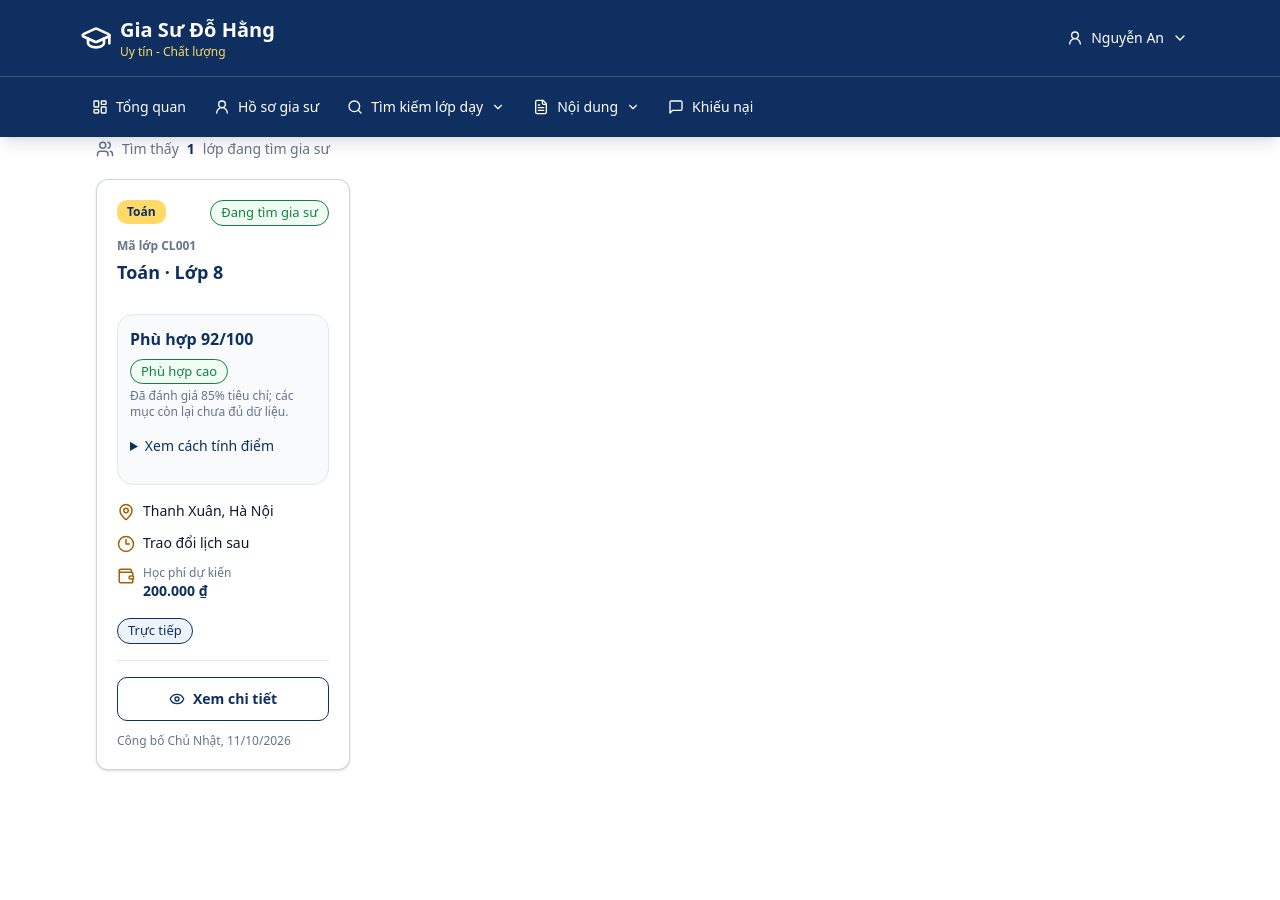
Test case: class routes › shows a scored recommendation with reasons and missing-data coverage
The width and height of the screenshot is (1280, 900).
(page scrolled)
Expected: the text "Phù hợp 92/100" is shown, [130, 326, 253, 350]
Expected: the text "Đã đánh giá 85% tiêu chí; các mục còn lại chưa đủ dữ liệu." is shown, [130, 388, 316, 420]
Click the heading "Xem cách tính điểm" at (209, 446), box [145, 436, 274, 455]
(page scrolled)
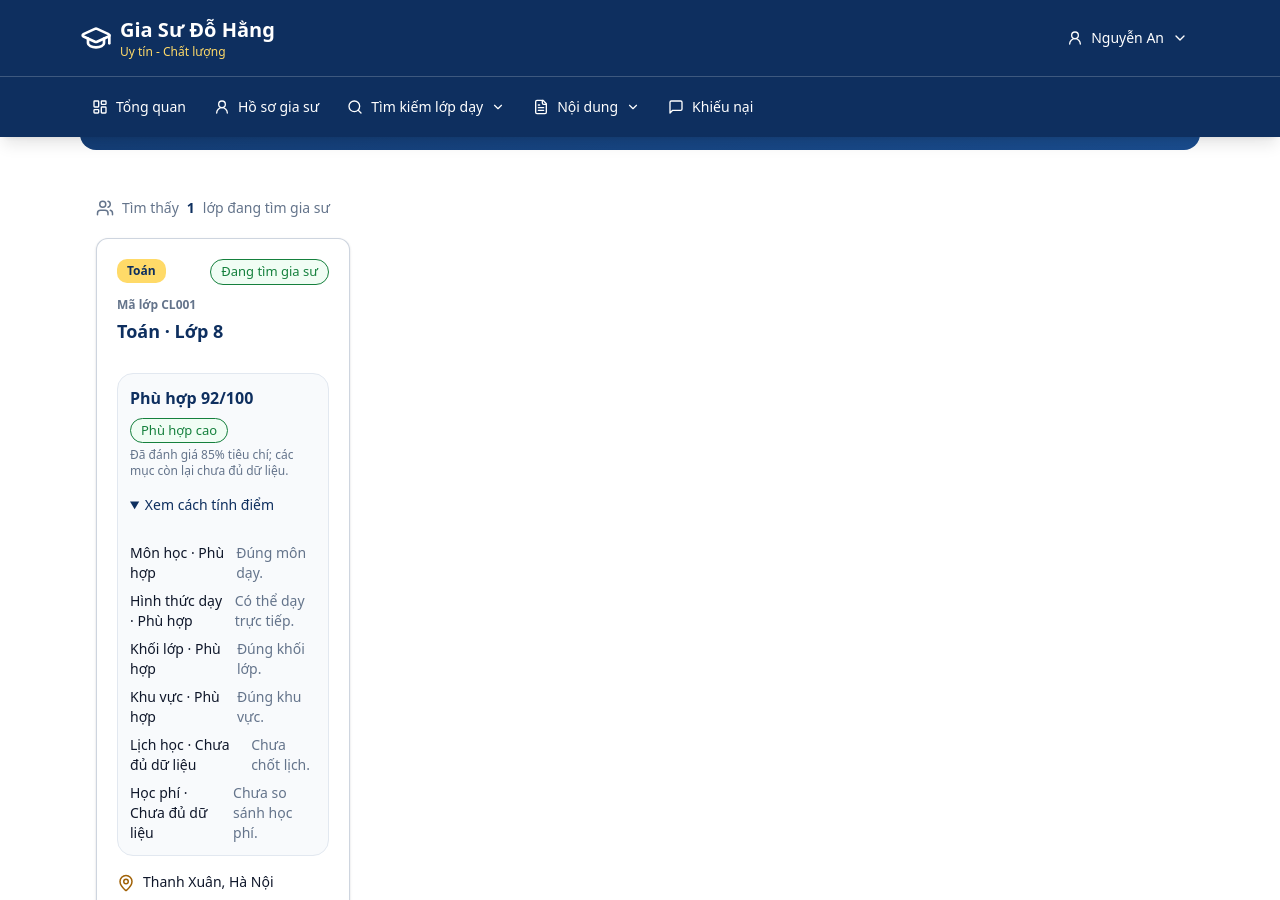
Result: the text "Chưa chốt lịch." is shown at [251, 735, 316, 775]
